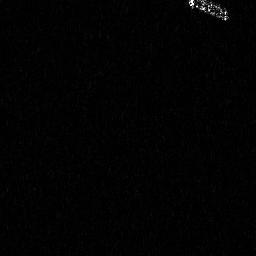ship: (187, 1, 233, 22)
